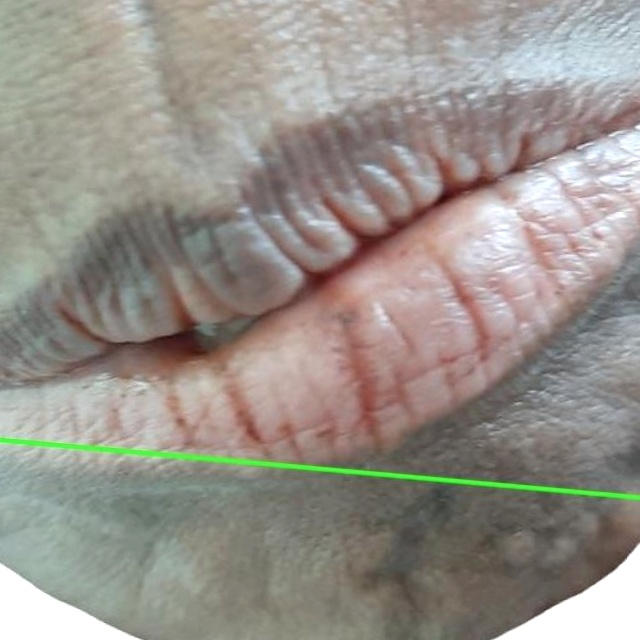Eczema: (0, 441, 639, 639)
